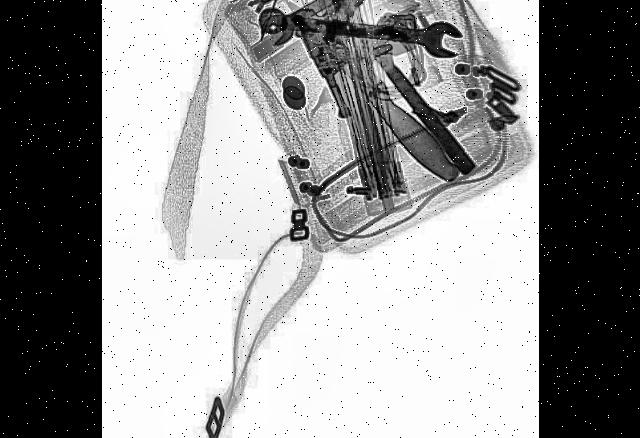Gun: (289, 0, 397, 125)
Knife: (281, 0, 461, 195), (320, 0, 475, 180)
Wrench: (258, 3, 460, 59), (256, 0, 429, 55)
